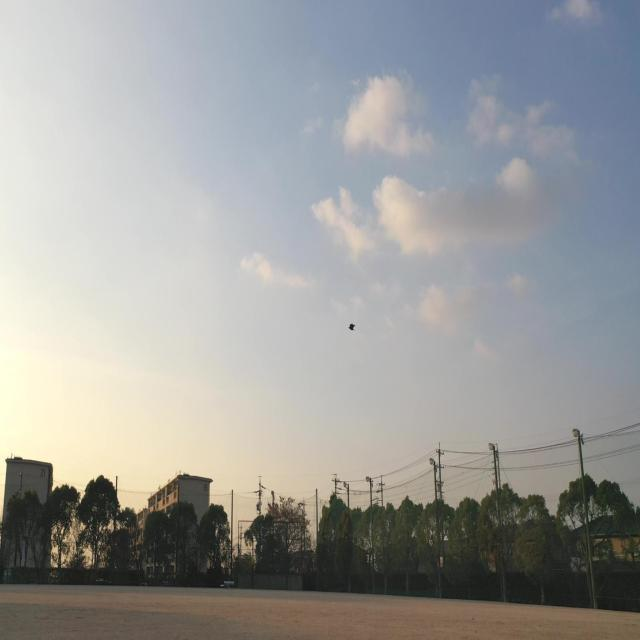Birds: (340, 318, 360, 338)
